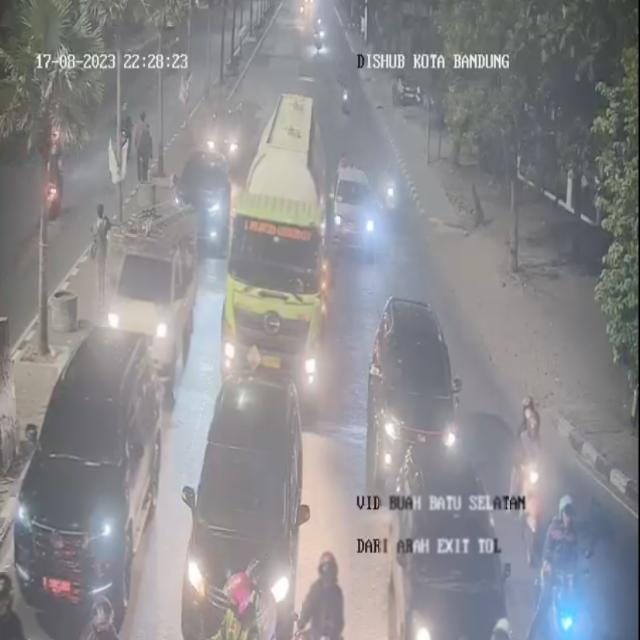cars: (16, 327, 165, 631), (184, 374, 310, 640), (379, 441, 506, 640), (364, 288, 459, 491), (110, 237, 198, 392), (178, 147, 230, 254), (334, 152, 382, 257)
motorcycle: (539, 483, 580, 640), (511, 390, 548, 528), (302, 549, 350, 640), (0, 572, 26, 639), (381, 147, 400, 213), (338, 72, 356, 115)
truck: (223, 150, 334, 414)
